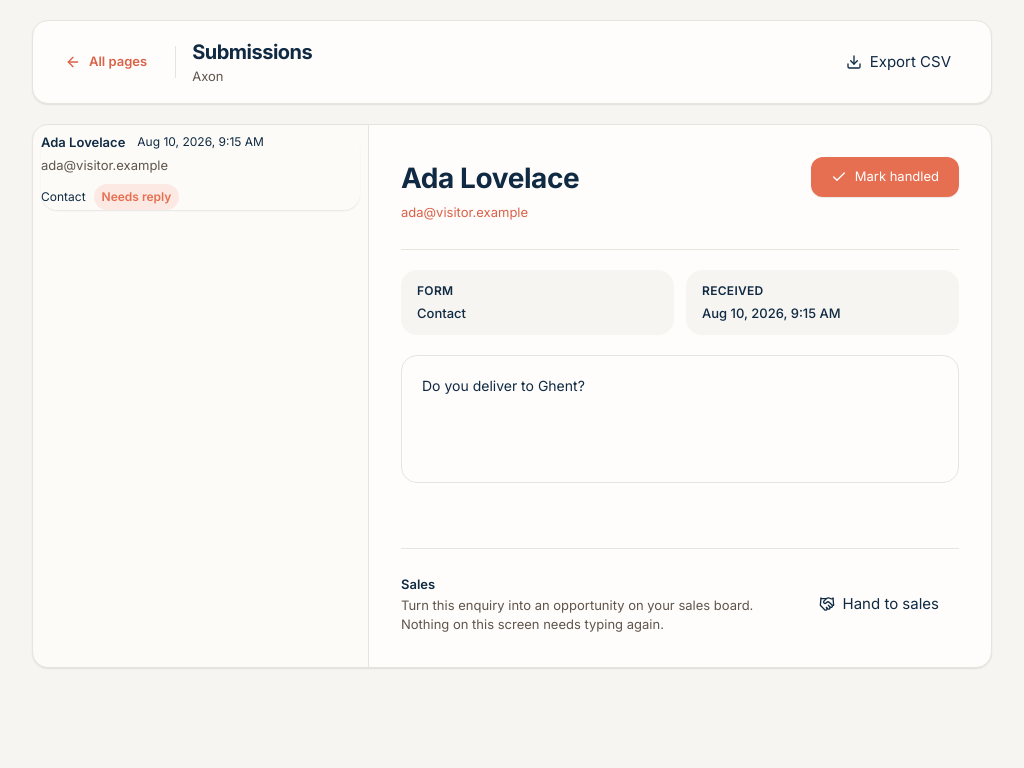
Test: handing an enquiry to sales › the server's refusal of a handoff is shown verbatim
Step 1. Click the button "Hand to sales" → point(879, 604), box [798,584,959,624]
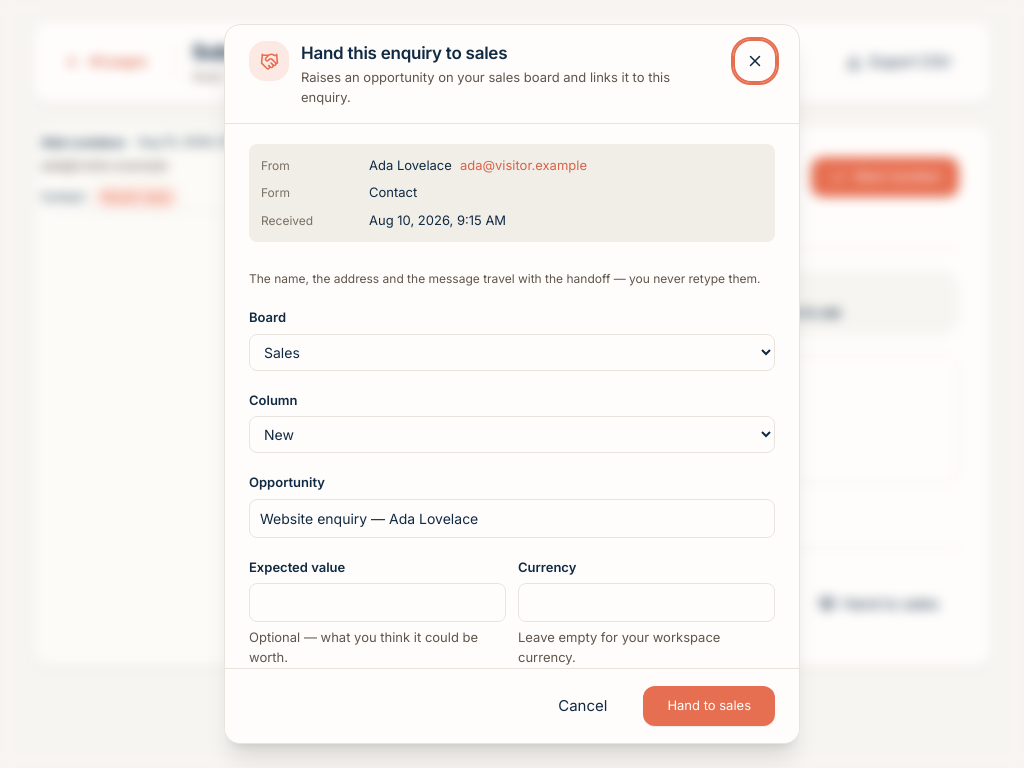
Check: the dropdown labelled "Board" shows "Sales", box [249,334,775,370]
Check: the dropdown labelled "Column" shows "New", box [249,416,775,453]
Step 2. Click the button "Hand to sales" → point(709, 706), box [643,686,775,726]
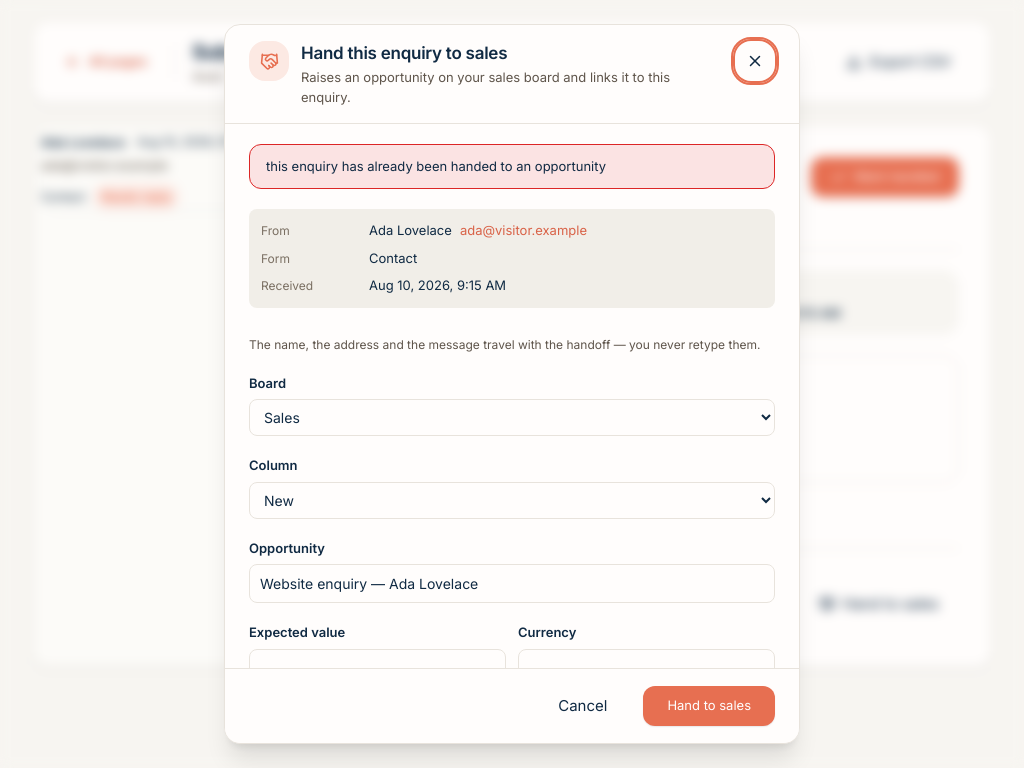
Check: the text "this enquiry has already been handed to an opportunity" is shown, box [249,144,775,189]
